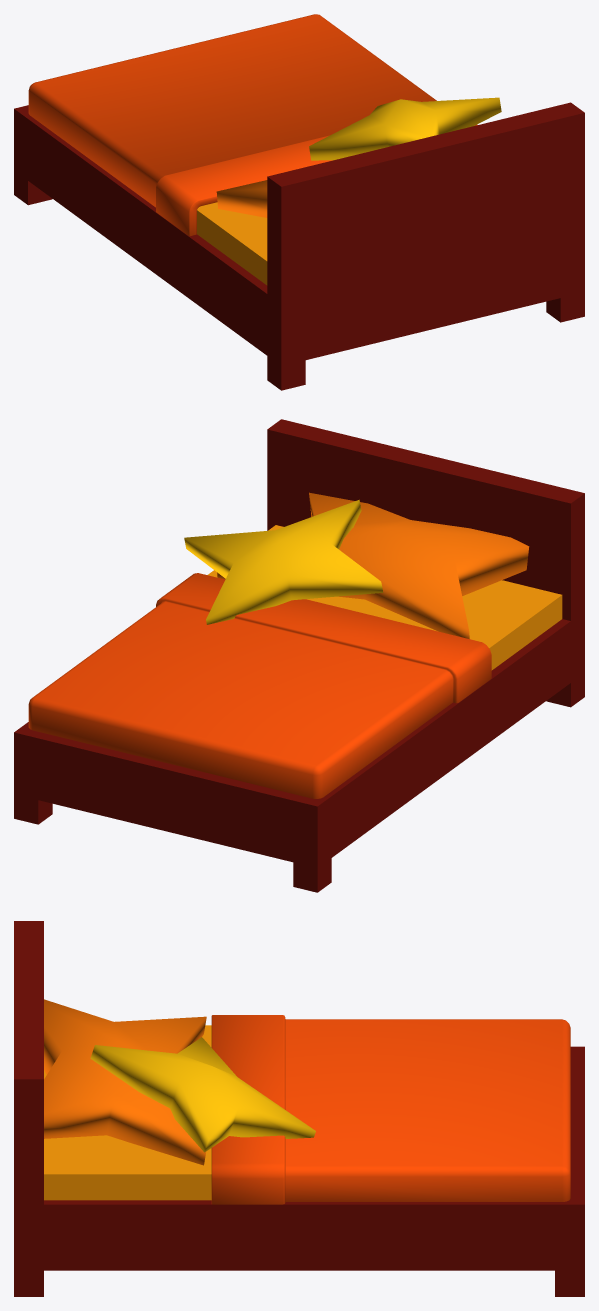
Rendered from hospital_bed.glb.
The picture shows the model from 3 angles, top to bottom: view 1: azimuth 30°, elevation 25°; view 2: azimuth 150°, elevation 25°; view 3: azimuth 270°, elevation 25°; orthographic projection. The views are drawn at different scales.
Visible parts, largest first — view 1: Bed frame, sheet, pillow2, metress, Pillow; view 2: Bed frame, sheet, Pillow, pillow2, metress; view 3: sheet, Bed frame, Pillow, pillow2, metress.
Boxes of the visible parts, x1,y1,x2,y2 form: Bed frame: [14, 102, 584, 390]; sheet: [28, 14, 477, 236]; pillow2: [309, 97, 501, 160]; metress: [197, 202, 267, 285]; Pillow: [216, 180, 267, 217]; Bed frame: [14, 419, 584, 892]; sheet: [28, 573, 491, 798]; Pillow: [217, 492, 529, 638]; pillow2: [184, 499, 383, 624]; metress: [207, 525, 562, 670]; sheet: [211, 1015, 570, 1204]; Bed frame: [14, 921, 584, 1296]; Pillow: [44, 999, 206, 1165]; pillow2: [90, 1037, 315, 1152]; metress: [44, 1025, 211, 1200].
Bounding box in the file's own units: 4.29 × 2.7 × 6.42.
Materials: 2 (2 with a texture image).
